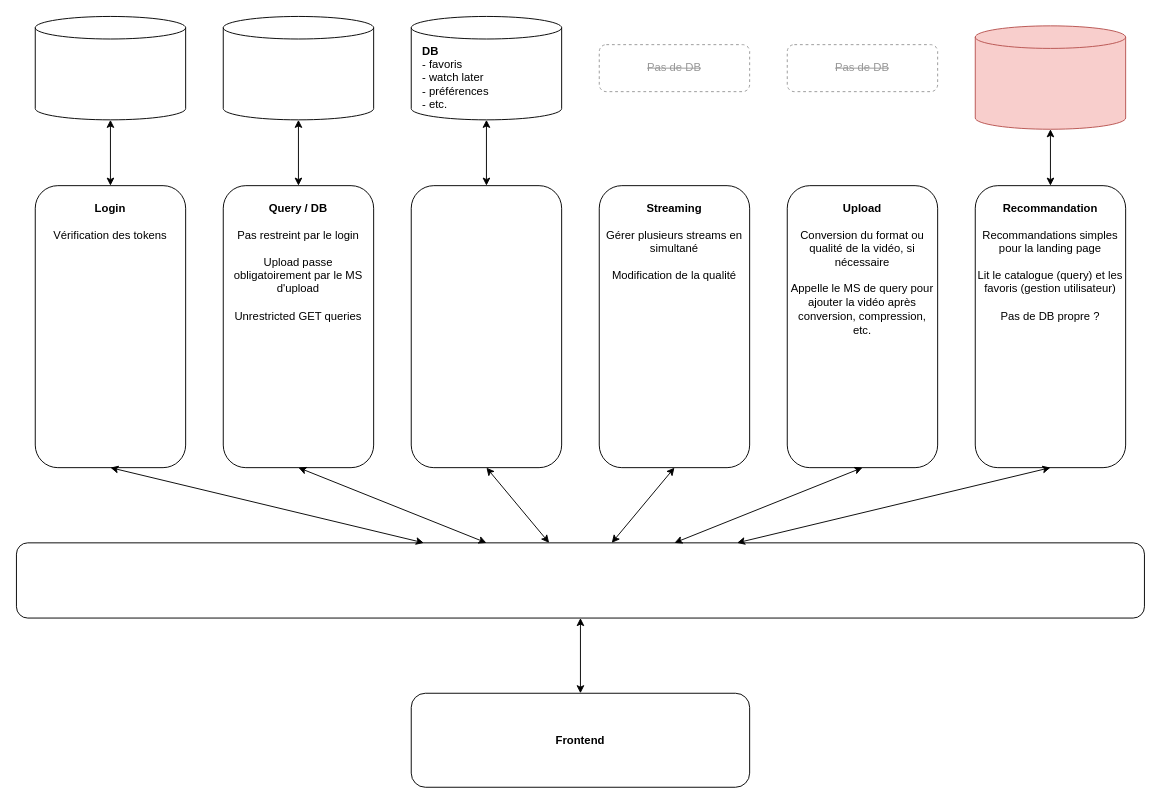
Some shapes in this 1161 by 804 pixel diagram are drawn without their labels. Each missing label, with the centre of its shape:
"API Gateway" goes at [580,580].
"DB - ? ? ? (on a-t-on besoin ?)" goes at [1050,77].
"DB - utilisateurs - hashed pwd" goes at [110,68].
"DB - Vidéo (qualité originale) - SRT" goes at [298,68].
"Gestion utilisateur - Paramètres / settings" goes at [486,326].
